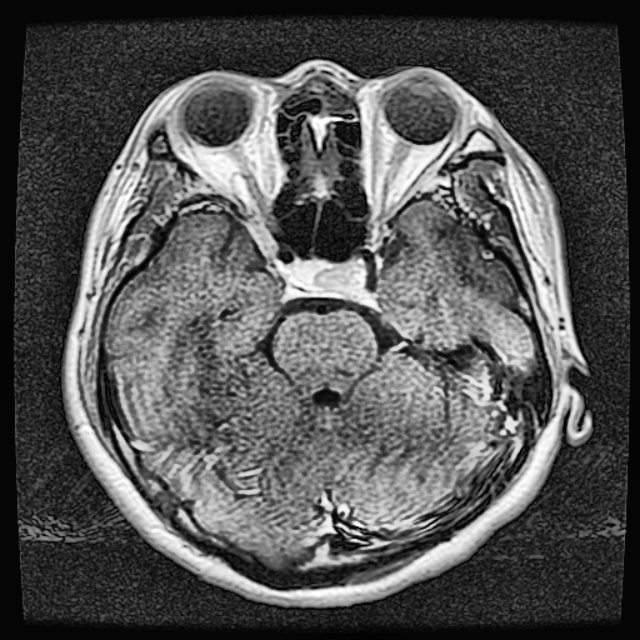Pituitary: (283, 260, 365, 294)
